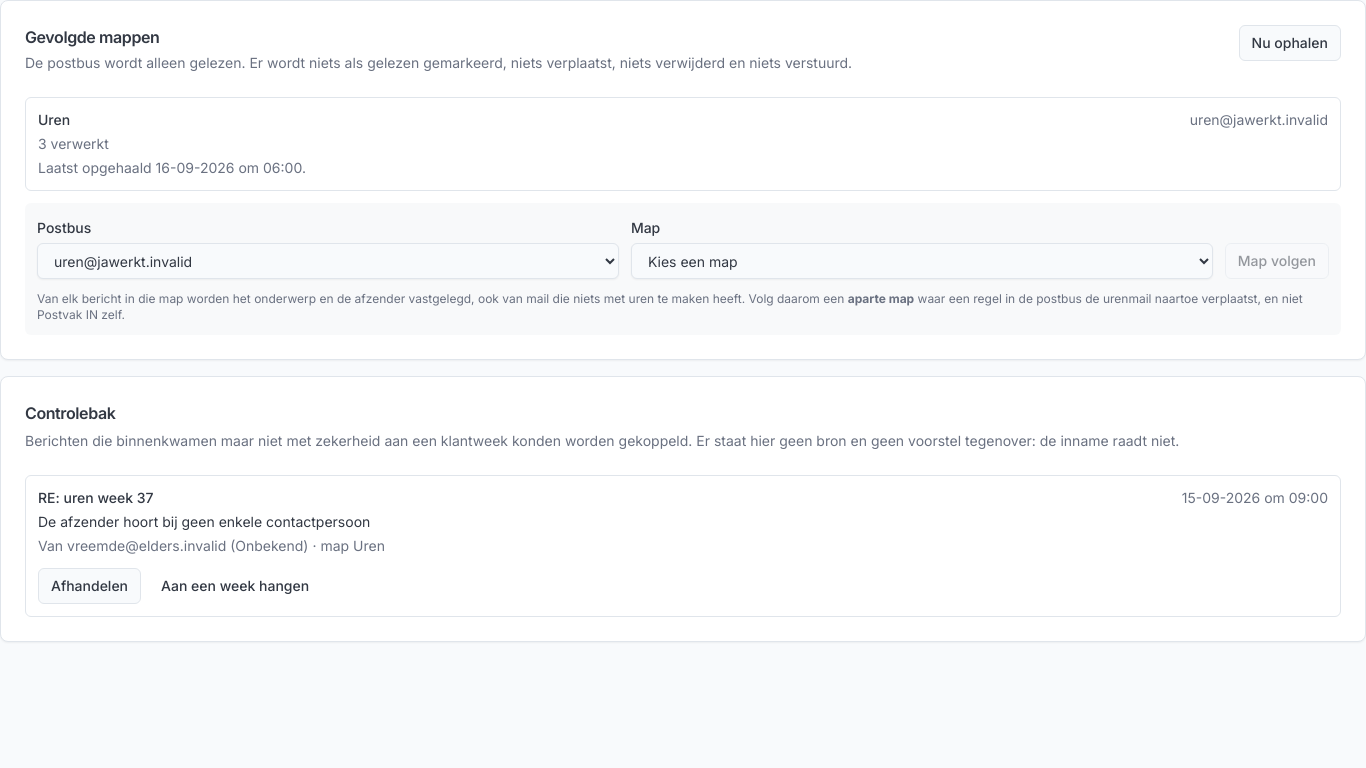
it: bevindingen uit de derde codereviewronde › zegt bij het toewijzen dat een mens dan de koppeling is
The image size is (1366, 768).
Click the button "Aan een week hangen" at (235, 586), box [149,568,321,604]
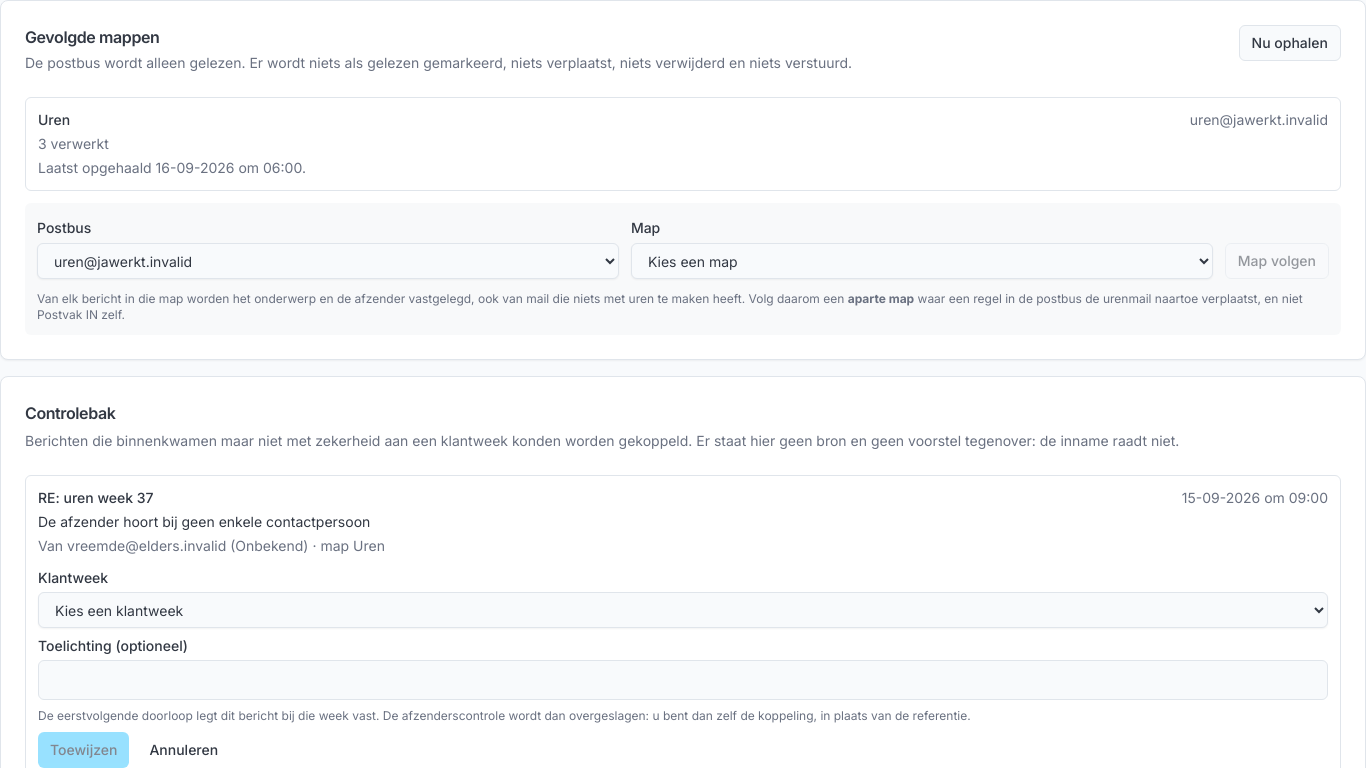
Expected: the text "u bent dan zelf de koppeling" is shown, [38,708,971,723]
